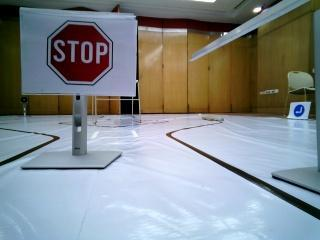stop: (36, 13, 124, 94)
